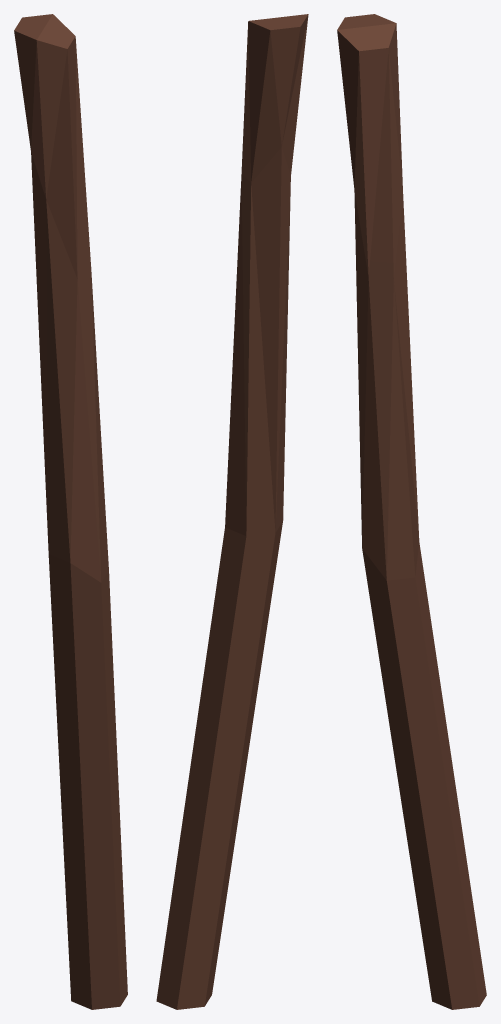
Rendered from Wooden Stick_2.fbx.
3 views of the same model, side by side, from view 1: azimuth 30°, elevation 25°; view 2: azimuth 150°, elevation 25°; view 3: azimuth 330°, elevation 25° (orthographic). The views are drawn at different scales.
Visible parts, largest first — view 1: Wooden Stick_2.001; view 2: Wooden Stick_2.001; view 3: Wooden Stick_2.001.
Part boxes in pixels (left/top/right/bottom): Wooden Stick_2.001: left=14, top=14, right=127, bottom=1009; Wooden Stick_2.001: left=156, top=14, right=308, bottom=1009; Wooden Stick_2.001: left=337, top=14, right=486, bottom=1009.
Bounding box in the file's own units: 0.2327 × 1.76 × 0.1676.
